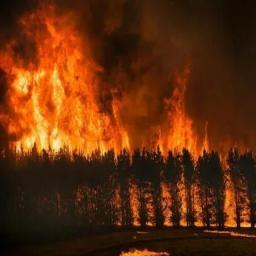Heavy smoke: (0, 3, 232, 137)
Medium fire: (0, 0, 254, 229), (0, 0, 255, 175)
